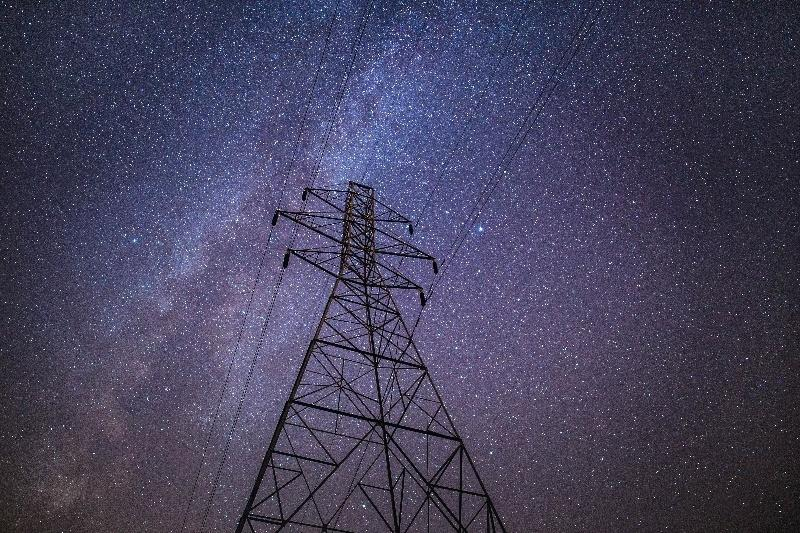power_tower: (263, 159, 477, 529)
